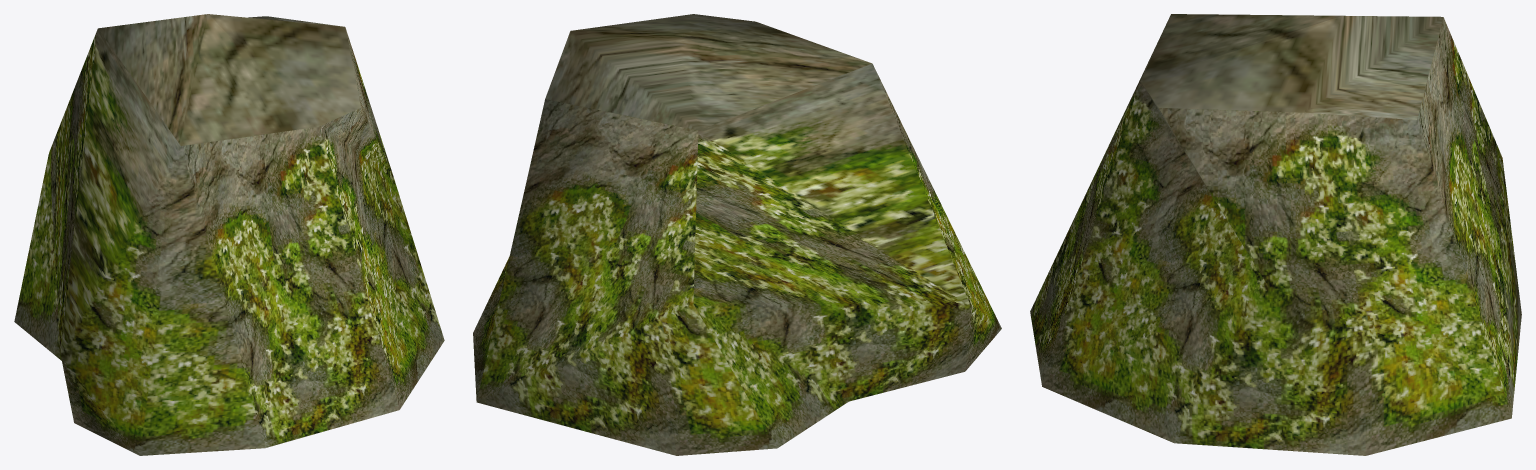
The model's file is rock_liaaba_covered_a2_l4.fbx.
3 views of the same model, side by side, from view 1: azimuth 30°, elevation 25°; view 2: azimuth 150°, elevation 25°; view 3: azimuth 270°, elevation 25° (orthographic). The views are drawn at different scales.
Visible parts, largest first — view 1: mesh_node; view 2: mesh_node; view 3: mesh_node.
Part boxes in pixels (left/top/right/bottom): mesh_node: left=14, top=14, right=444, bottom=455; mesh_node: left=473, top=14, right=1001, bottom=455; mesh_node: left=1030, top=14, right=1521, bottom=455.
Size of the model in its own units: 4.88 by 3.65 by 4.77.
1 material, 1 textured.
